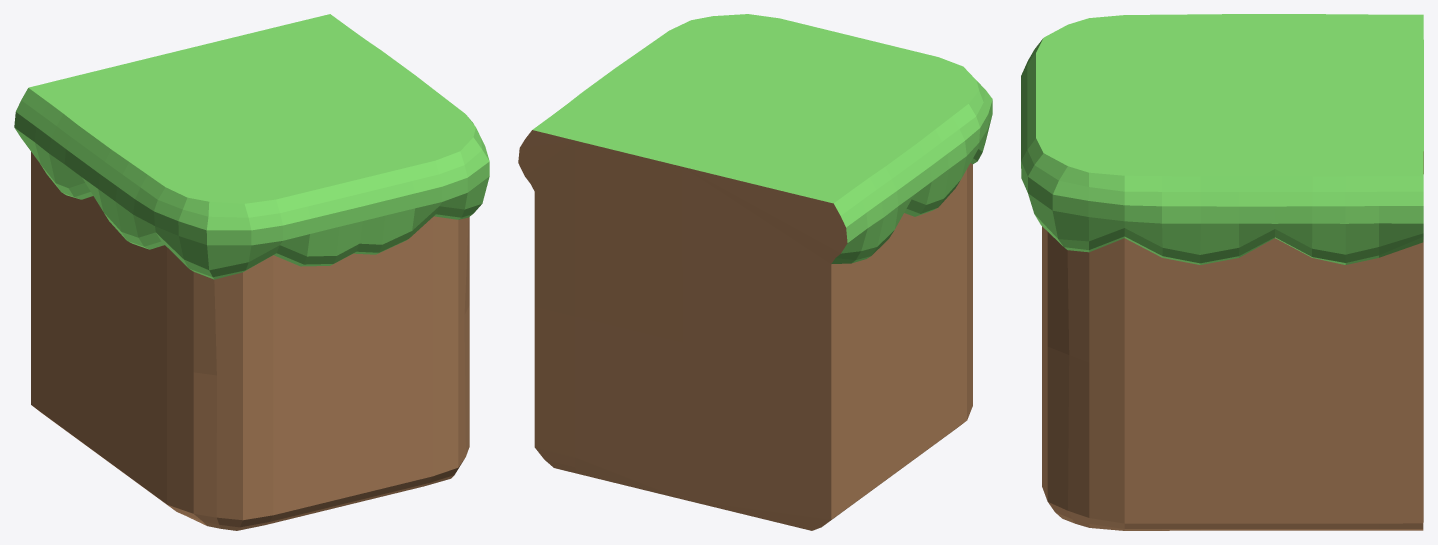
Rendered from V1.Ground.Double.Side.fbx.
3 renders of one model, left to right at view 1: azimuth 30°, elevation 25°; view 2: azimuth 150°, elevation 25°; view 3: azimuth 270°, elevation 25°, orthographic. The views are drawn at different scales.
Visible parts, largest first — view 1: V1.Corner.001; view 2: V1.Corner.001; view 3: V1.Corner.001.
Part boxes in pixels (bbox=[...]): V1.Corner.001: bbox=[14, 14, 489, 530]; V1.Corner.001: bbox=[518, 14, 992, 530]; V1.Corner.001: bbox=[1021, 14, 1423, 530].
Bounding box in the file's own units: 209 × 200 × 200.
